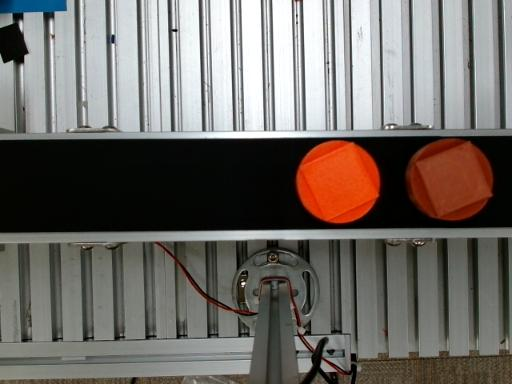Square: (300, 142, 379, 220), (414, 141, 493, 217)
